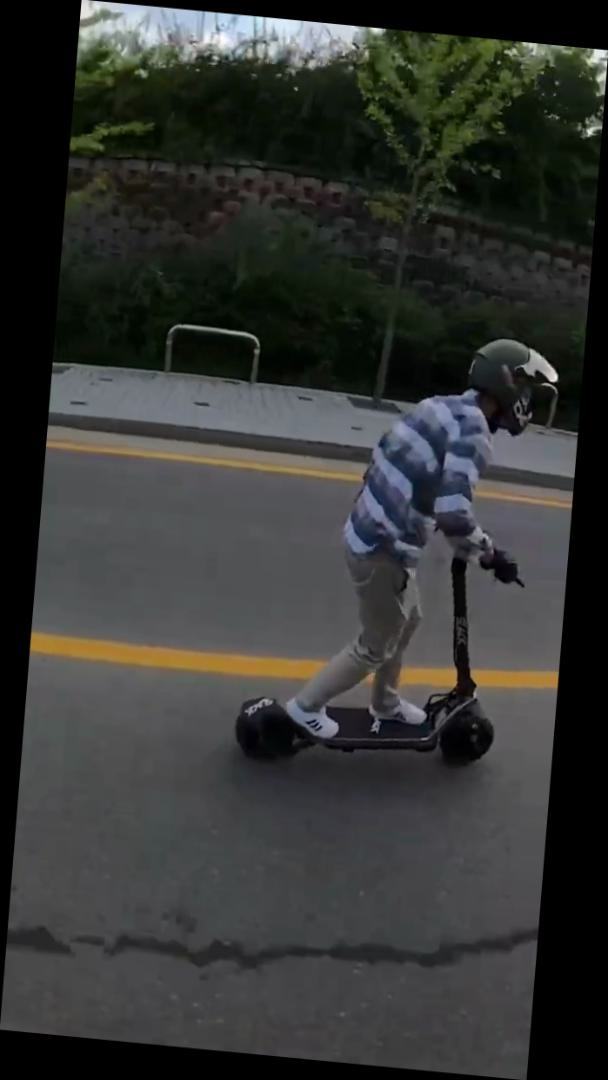helmet: (223, 311, 564, 792)
